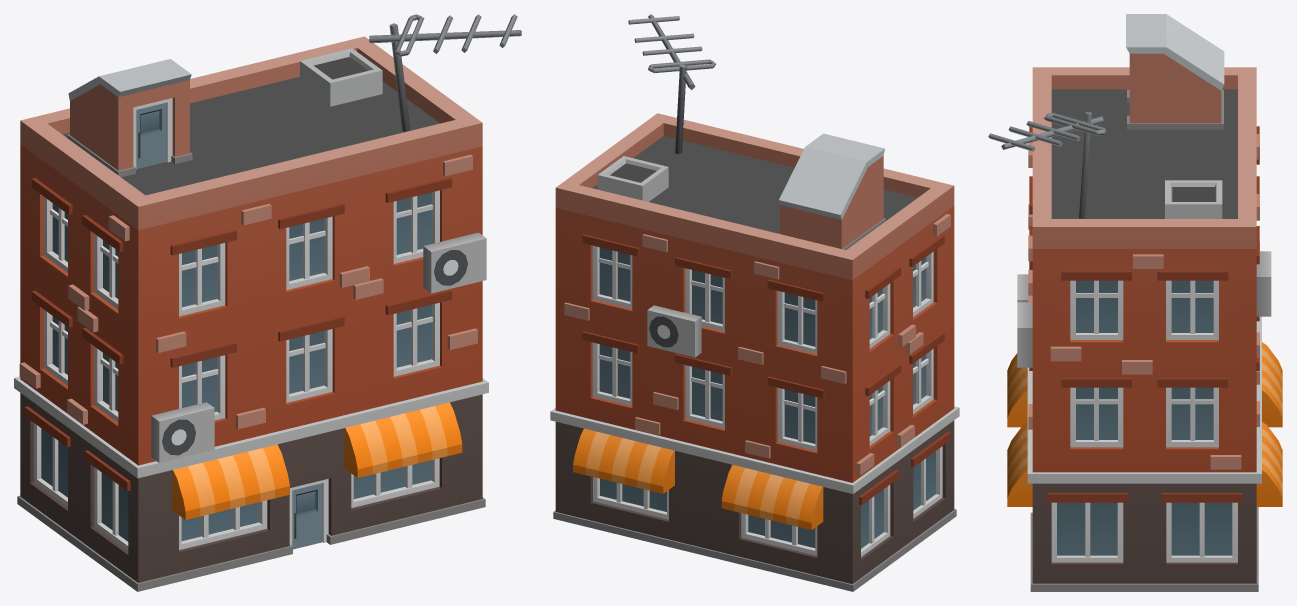
The model's file is residental_building_008.glb.
The picture shows the model from 3 angles, left to right: view 1: azimuth 30°, elevation 25°; view 2: azimuth 150°, elevation 25°; view 3: azimuth 270°, elevation 25°; orthographic projection. The views are drawn at different scales.
Visible parts, largest first — view 1: residental_building_008; view 2: residental_building_008; view 3: residental_building_008.
Part boxes in pixels (left/top/right/bottom): residental_building_008: left=14, top=14, right=521, bottom=591; residental_building_008: left=550, top=14, right=959, bottom=591; residental_building_008: left=988, top=14, right=1282, bottom=591.
Size of the model in its own units: 14.69 by 17.73 by 10.29.
1 material, 1 textured.
